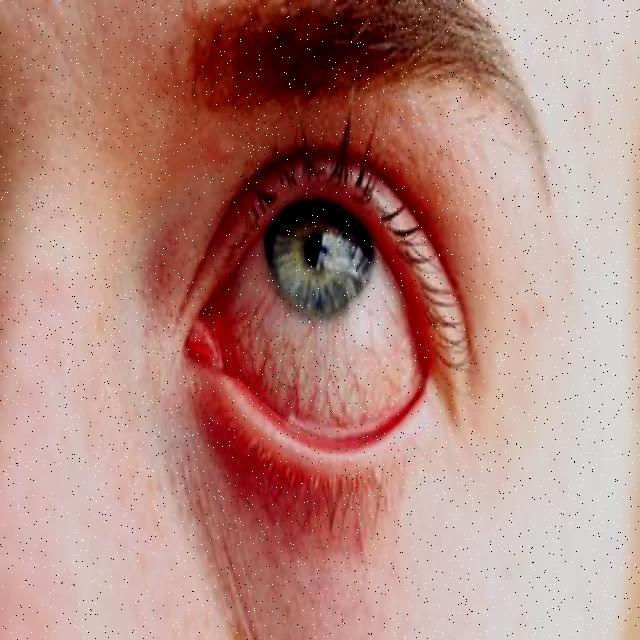Conjunctivitis: (176, 270, 442, 449)
